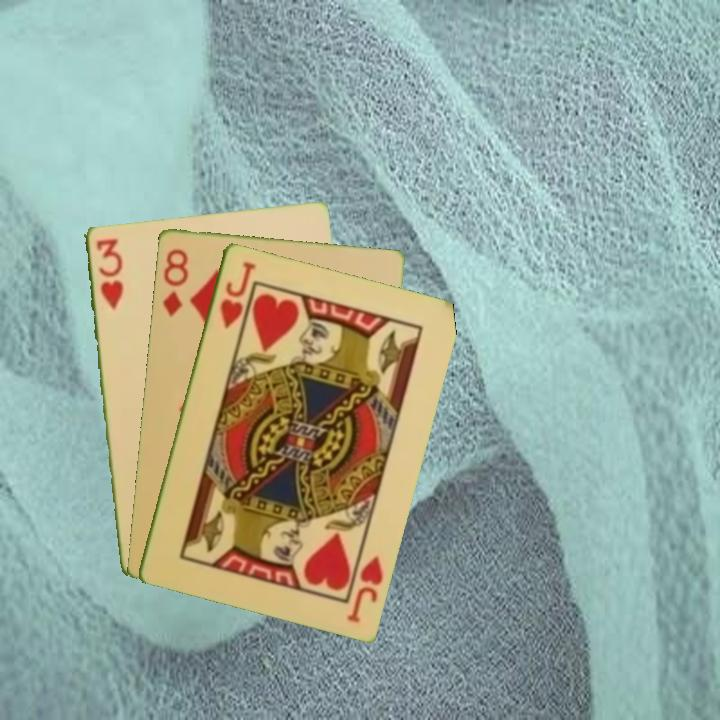3h: (92, 234, 126, 312)
8d: (159, 244, 191, 319)
Jh: (343, 551, 386, 625), (216, 257, 258, 331)
